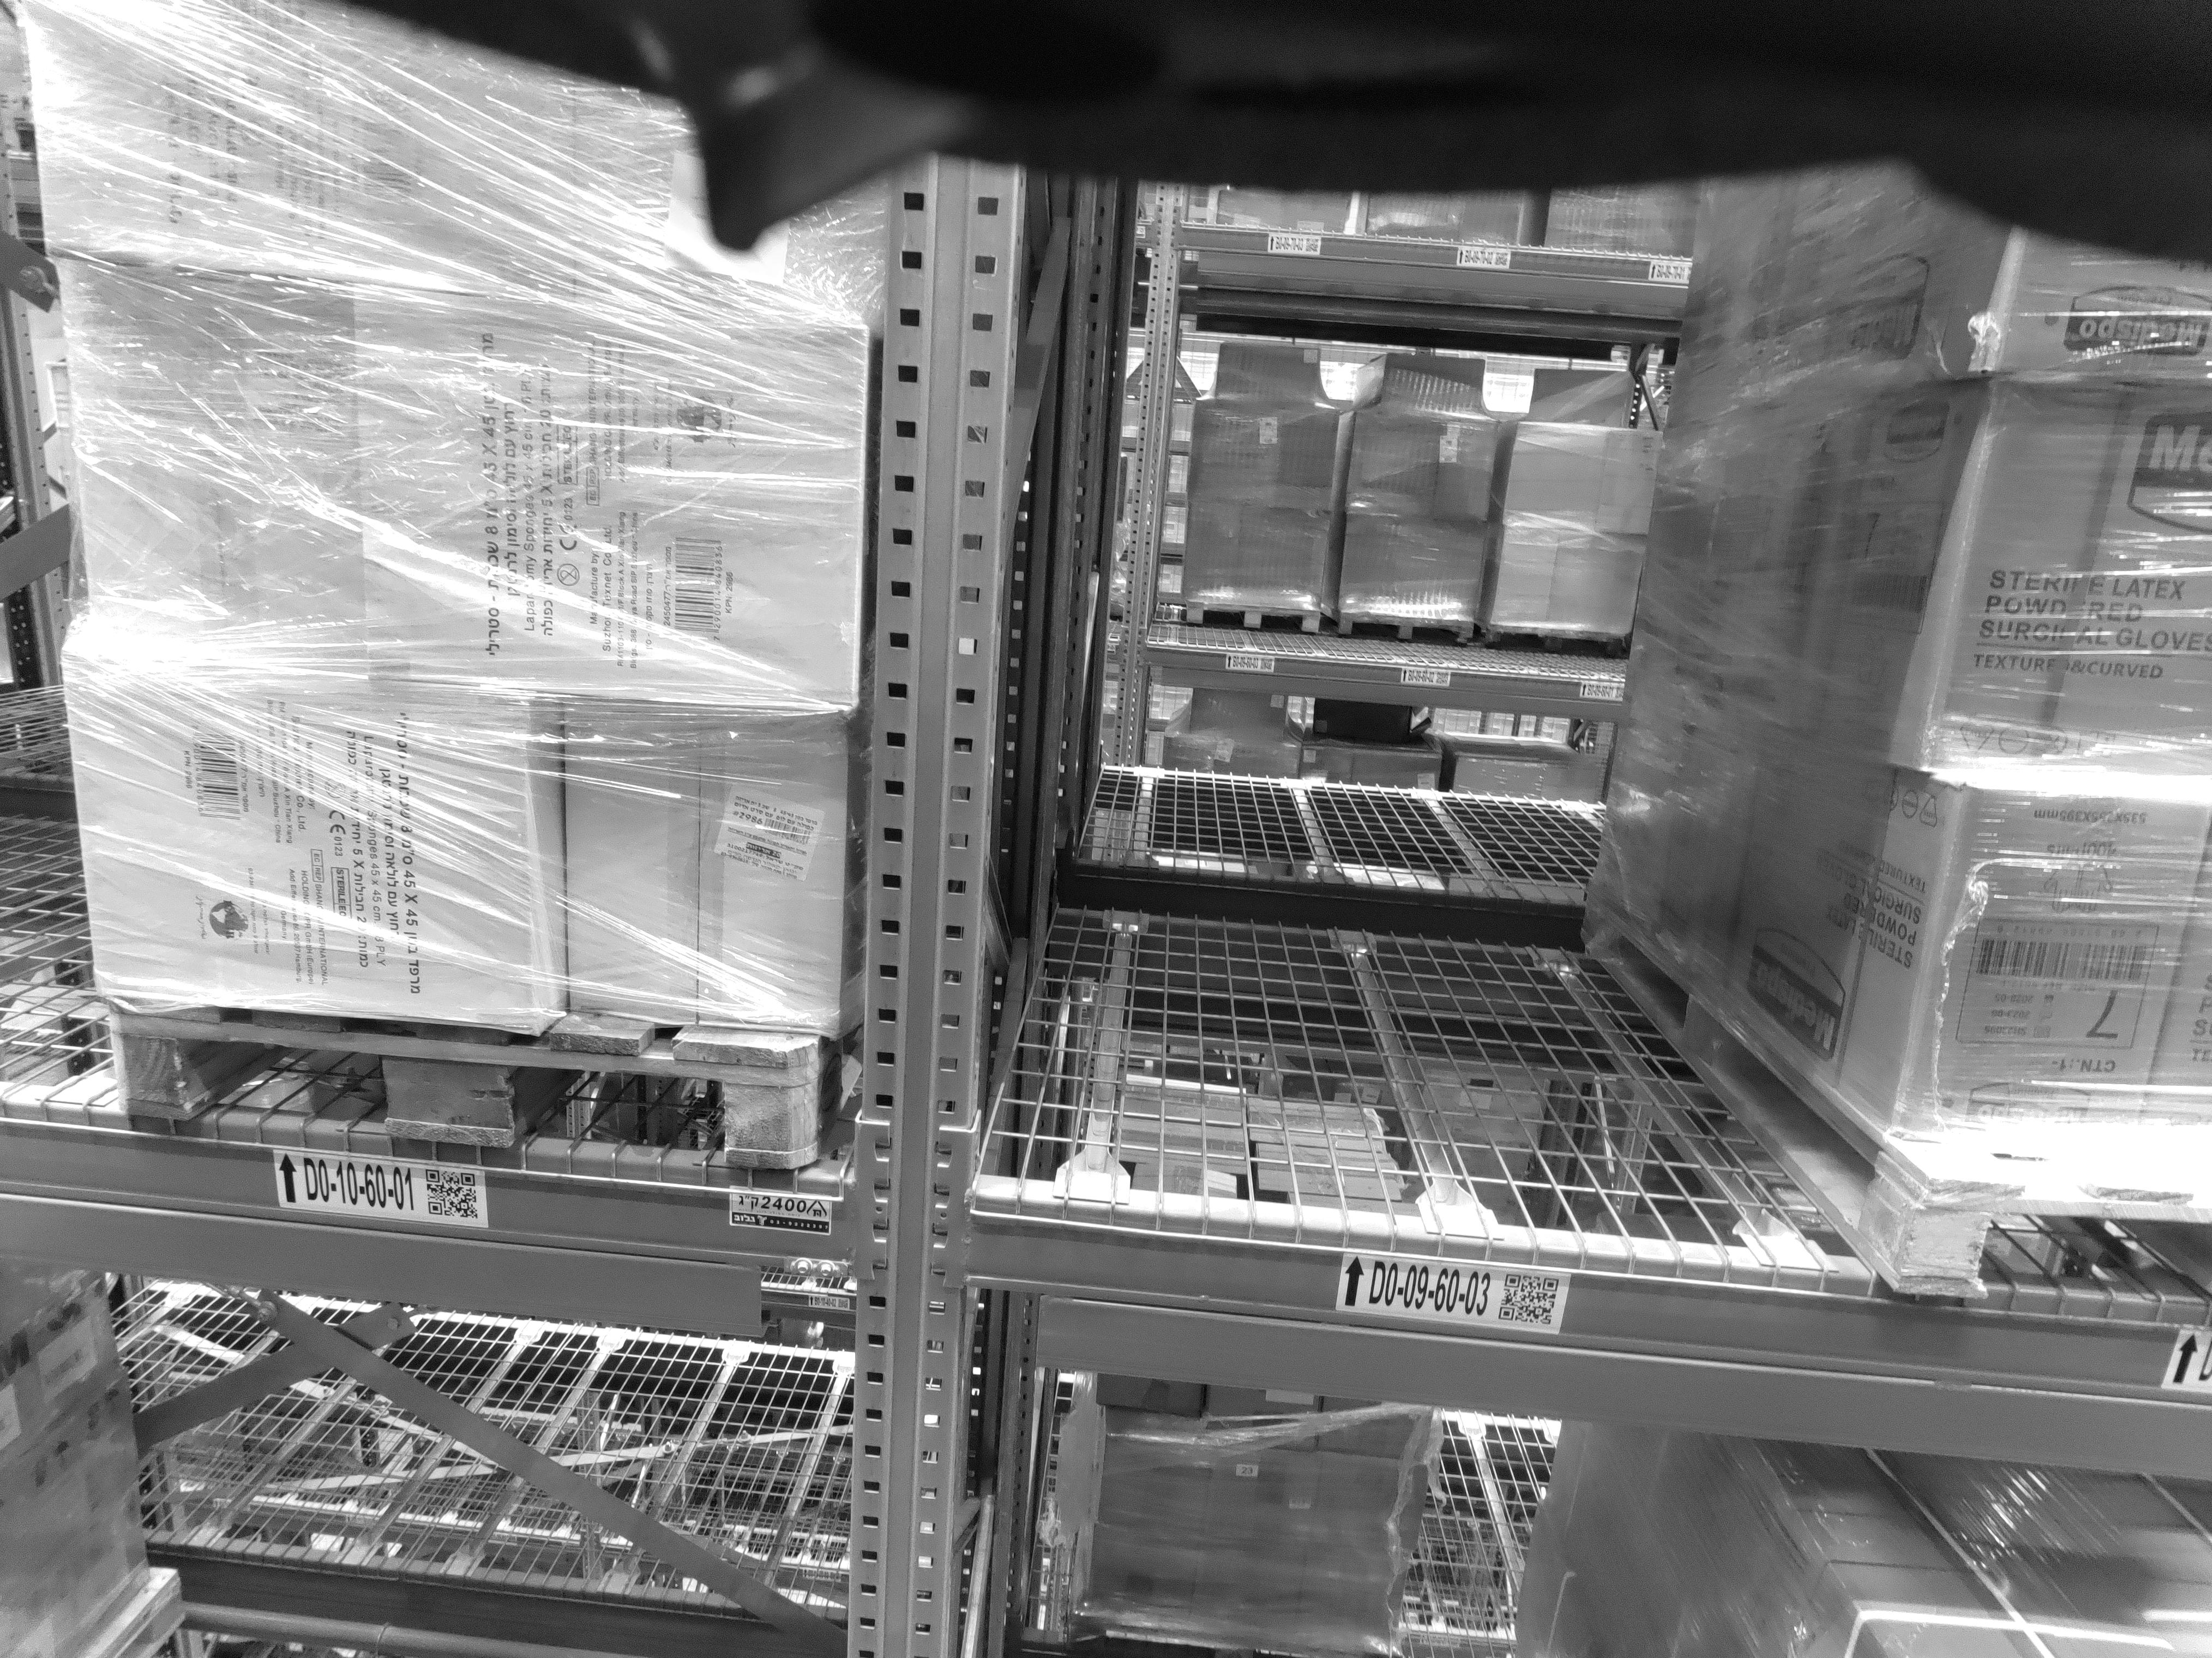empty-shelf: (1172, 185, 1660, 1184)
